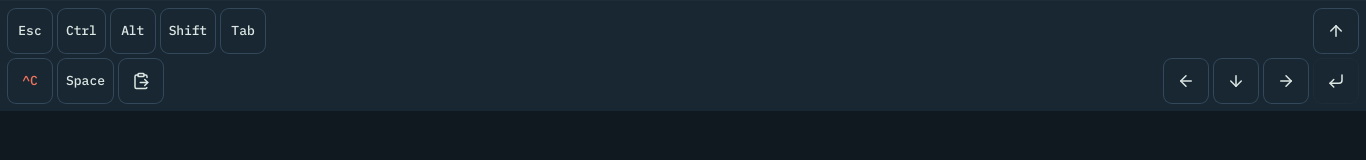
Test: KeyDock › reports an empty clipboard
Click the button named "paste from clipboard": {"x": 141, "y": 81} [119, 59, 163, 103]
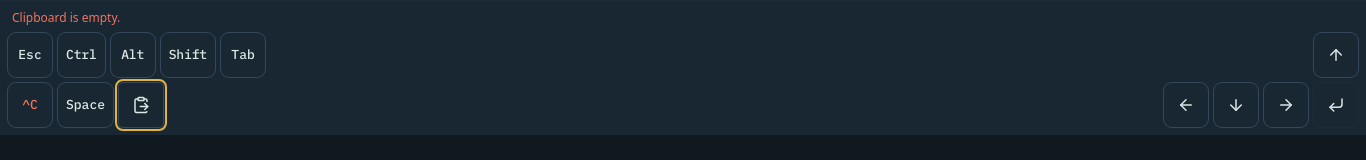
Check: the text "Clipboard is empty." is shown, box [12, 9, 120, 26]
